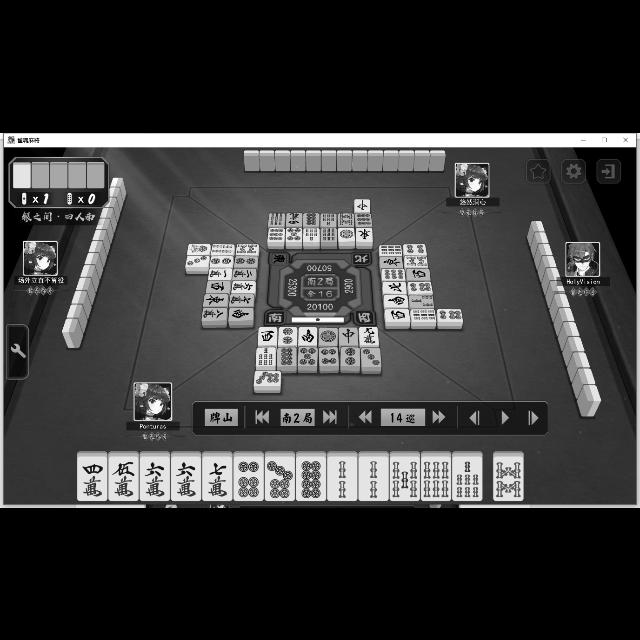1m: (208, 266, 232, 280)
1p: (319, 326, 337, 346), (337, 226, 355, 240)
1s: (187, 243, 210, 255)
2m: (232, 268, 256, 280)
2p: (340, 346, 360, 366), (279, 326, 297, 346), (233, 255, 257, 268), (209, 255, 233, 267)
2s: (327, 456, 358, 500), (358, 456, 388, 500)
3p: (362, 348, 382, 366), (186, 255, 208, 267)
3s: (410, 294, 434, 308)
4m: (76, 457, 108, 501), (286, 212, 302, 226)
4p: (319, 347, 339, 365), (404, 243, 426, 255)
4s: (211, 242, 233, 255)
5m: (108, 456, 138, 499)
5p: (298, 346, 316, 366), (286, 226, 302, 240)
5s: (390, 456, 420, 500)
6m: (139, 456, 169, 500), (171, 456, 201, 500), (230, 280, 256, 292)
6p: (233, 456, 263, 500), (438, 308, 462, 322), (407, 281, 433, 293)
6s: (422, 456, 452, 500)
7m: (202, 456, 232, 500), (230, 293, 254, 307)
7p: (265, 456, 295, 500), (254, 370, 280, 386)
7s: (452, 456, 482, 499), (256, 346, 274, 366), (304, 226, 320, 242), (320, 212, 336, 226)
8m: (202, 307, 226, 319)
8p: (296, 456, 326, 500), (276, 346, 296, 366), (302, 212, 320, 226)
8s: (494, 456, 524, 500), (404, 255, 428, 268), (236, 243, 258, 254), (338, 212, 354, 226)
9m: (358, 326, 378, 344)
9p: (382, 268, 404, 280), (356, 212, 372, 226), (268, 228, 284, 242)
9s: (410, 308, 436, 320), (380, 244, 402, 256), (321, 226, 337, 242), (268, 212, 286, 226)
chun: (339, 326, 358, 346), (354, 198, 370, 212)
haku: (14, 165, 31, 188)
nan: (298, 326, 318, 346), (230, 306, 254, 320), (384, 294, 408, 306)
pe: (382, 281, 406, 293)
sha: (407, 266, 431, 280), (258, 326, 276, 344), (385, 308, 411, 320), (206, 280, 230, 292)
tou: (203, 292, 227, 306), (380, 256, 402, 268), (356, 227, 372, 241)
